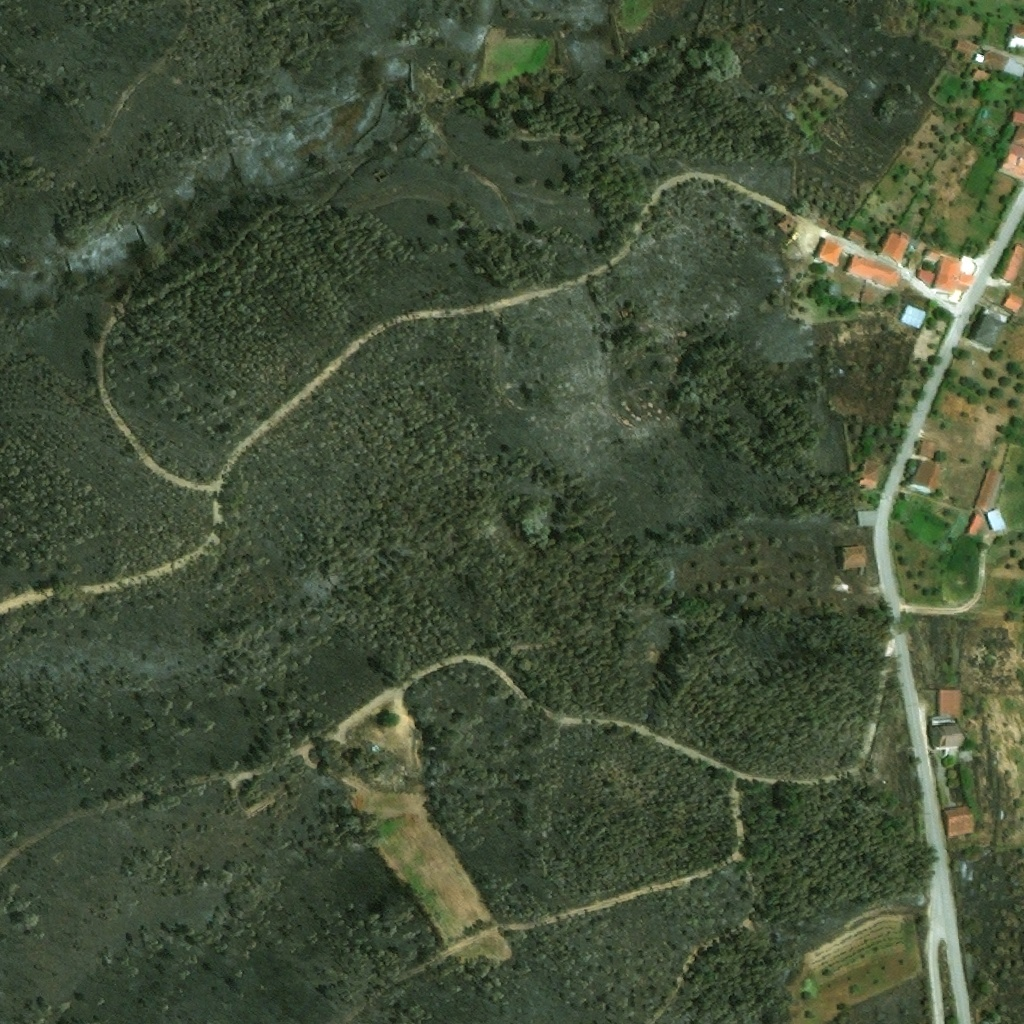0 no-damage: (845, 254, 902, 289), (932, 255, 974, 295), (969, 314, 1006, 351), (974, 468, 1004, 513), (905, 461, 943, 496), (878, 232, 910, 266), (942, 804, 974, 837), (997, 143, 1023, 183), (999, 242, 1023, 285), (931, 722, 964, 749), (813, 237, 841, 268), (899, 305, 926, 331), (974, 51, 1009, 71), (936, 689, 962, 715), (859, 462, 883, 488), (841, 547, 866, 569), (987, 508, 1007, 533), (1002, 292, 1023, 314), (965, 511, 983, 536), (953, 39, 977, 57), (918, 439, 937, 460), (1005, 57, 1023, 79), (915, 267, 935, 286), (856, 510, 877, 526), (844, 230, 864, 245), (971, 69, 991, 82), (925, 248, 941, 262)
4 un-classified: (1008, 22, 1023, 47), (1010, 125, 1023, 146), (1012, 111, 1023, 125)
